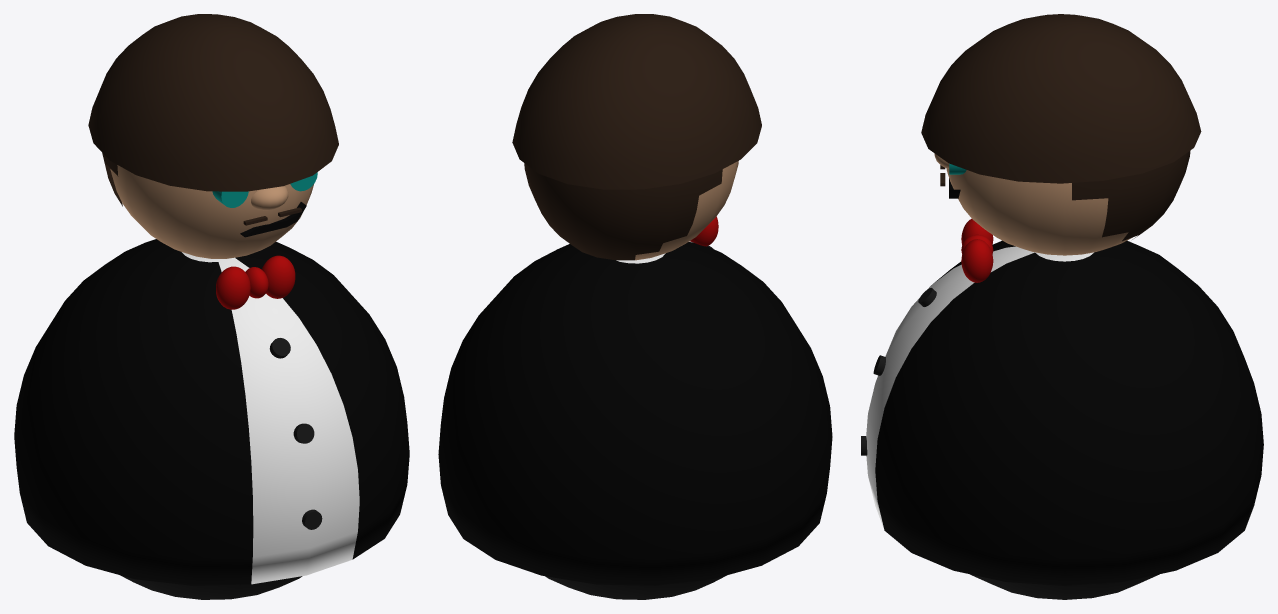
File: serverMale.fbx
3 renders of one model, left to right at view 1: azimuth 30°, elevation 25°; view 2: azimuth 150°, elevation 25°; view 3: azimuth 270°, elevation 25°, orthographic.
Visible parts, largest first — view 1: serverMale1; view 2: serverMale1; view 3: serverMale1.
Boxes of the visible parts, left/top/right/bottom form: serverMale1: left=14, top=14, right=409, bottom=599; serverMale1: left=438, top=14, right=832, bottom=599; serverMale1: left=861, top=14, right=1263, bottom=599.
Bounding box in the file's own units: 2 × 3.1 × 2.02.
